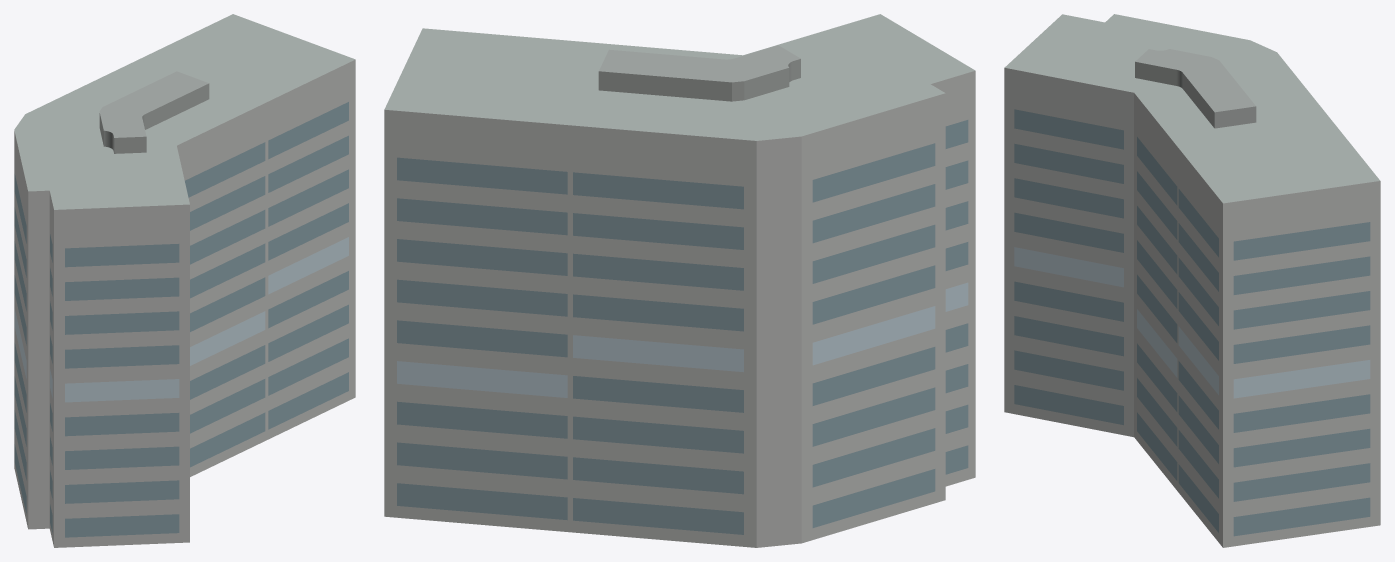
The model's file is apt-a10020416.glb.
The picture shows the model from 3 angles, left to right: view 1: azimuth 30°, elevation 25°; view 2: azimuth 150°, elevation 25°; view 3: azimuth 270°, elevation 25°; orthographic projection. The views are drawn at different scales.
Visible parts, largest first — view 1: apt-a10020416; view 2: apt-a10020416; view 3: apt-a10020416.
Boxes of the visible parts, x1,y1,x2,y2 form: apt-a10020416: (14,14,355,547); apt-a10020416: (384,14,975,547); apt-a10020416: (1004,14,1380,547).
Bounding box in the file's own units: 33.8 × 30 × 28.34.
